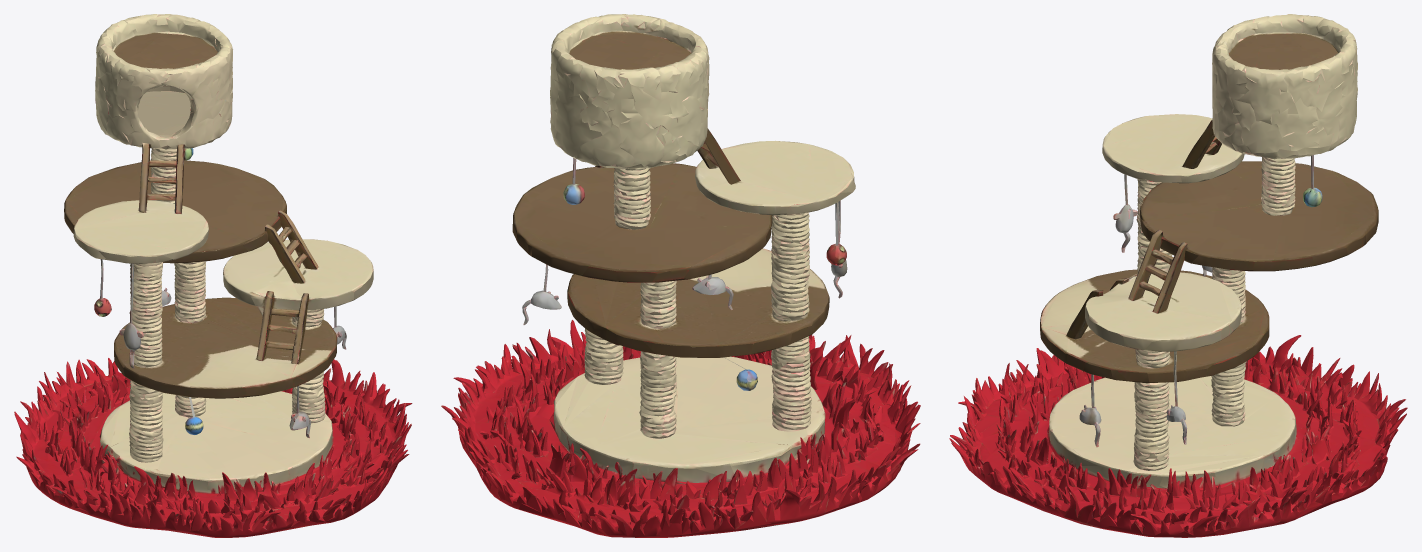
The model's file is squanchy-house.glb.
3 renders of one model, left to right at view 1: azimuth 30°, elevation 25°; view 2: azimuth 150°, elevation 25°; view 3: azimuth 270°, elevation 25°, orthographic. The views are drawn at different scales.
Bounding box in the file's own units: 1.86 × 1.89 × 1.9.
Materials: 1 (1 with a texture image).
